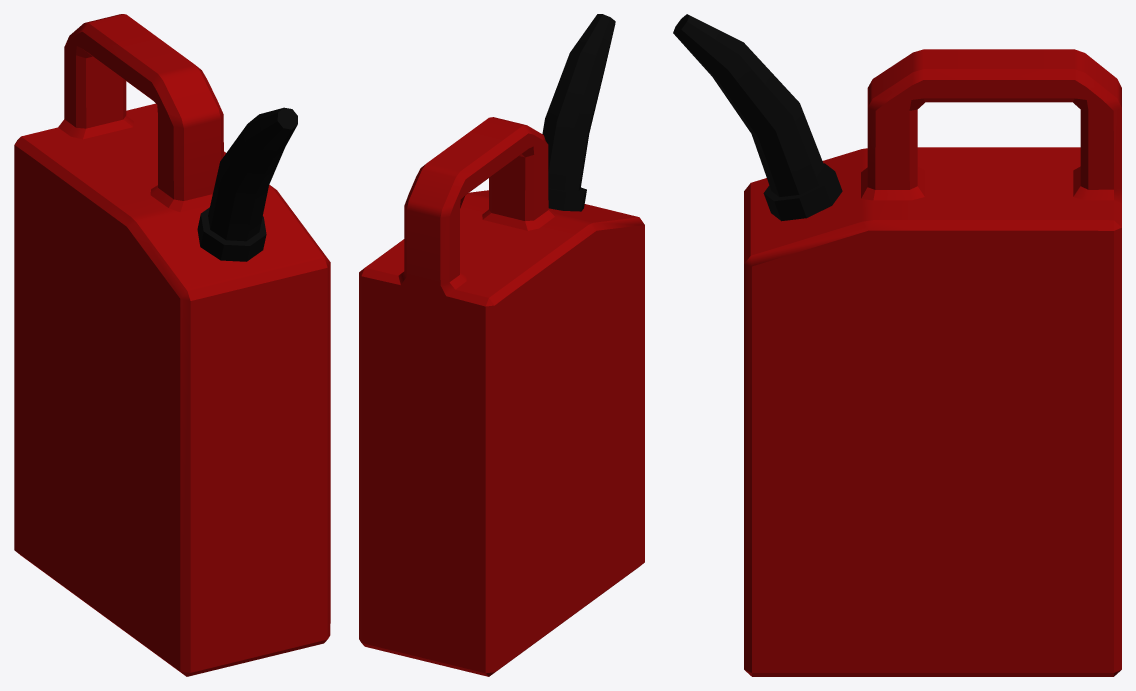
The model's file is Gas_Can_01.fbx.
The picture shows the model from 3 angles, left to right: view 1: azimuth 30°, elevation 25°; view 2: azimuth 150°, elevation 25°; view 3: azimuth 270°, elevation 25°; orthographic projection. The views are drawn at different scales.
Parts seen in each view (by area): view 1: pCube2; view 2: pCube2; view 3: pCube2.
Boxes of the visible parts, x1=… form: pCube2: x1=14, y1=14, x2=330, y2=676; pCube2: x1=359, y1=14, x2=644, y2=676; pCube2: x1=673, y1=14, x2=1121, y2=676.
Size of the model in its own units: 15 by 54.75 by 35.63.
